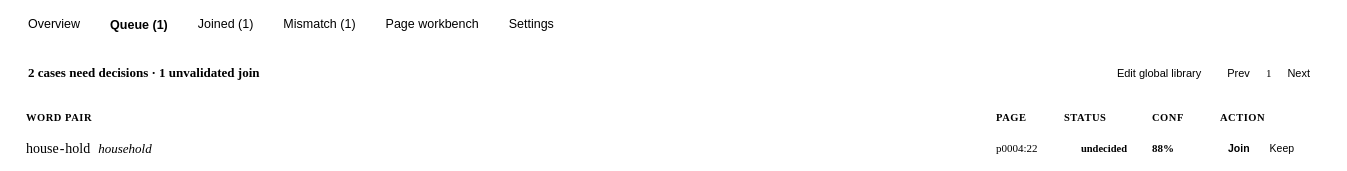
HyphenJoinTool — tab switching › clicking Settings tab shows hyphen-settings-tab
Click the button with test id "hyphen-tab-settings": (531, 25) [495, 8, 568, 42]
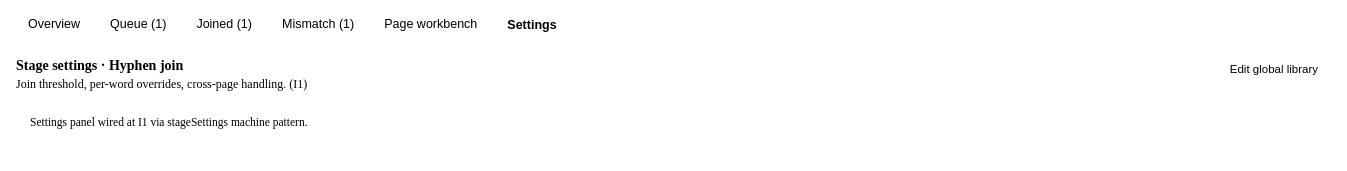
Result: the element with test id "hyphen-settings-tab" is shown at [16, 58, 1330, 128]
Result: the element with test id "hyphen-case-list-queue" is gone
